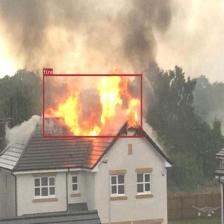fire: (43, 74, 142, 137)
